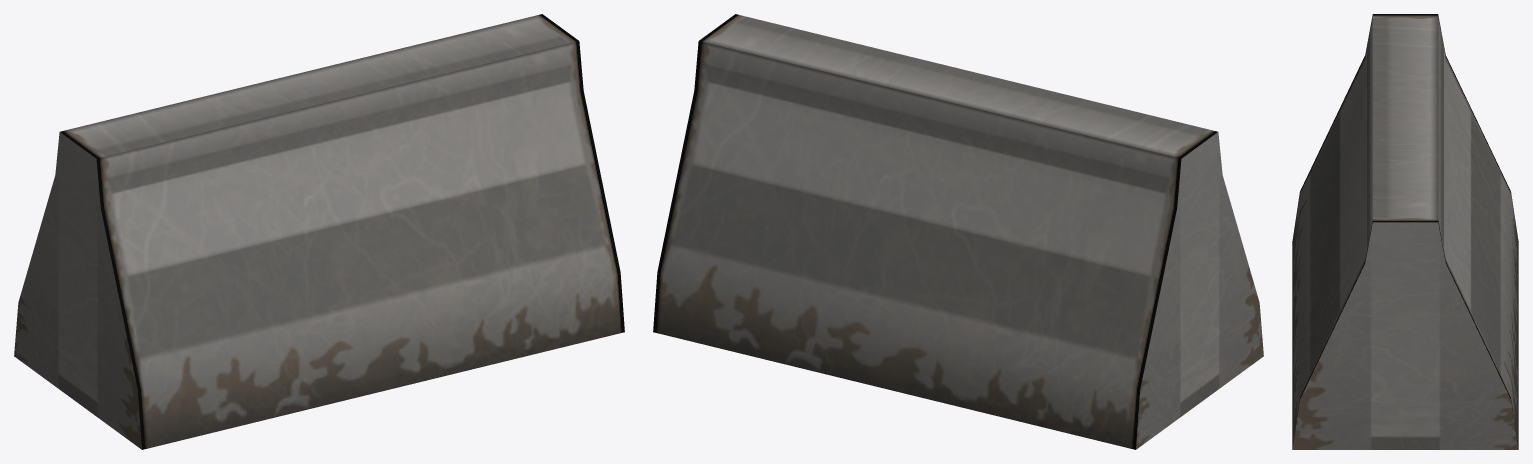
File: Building_AncientMilitaryBarrier.obj
3 renders of one model, left to right at view 1: azimuth 30°, elevation 25°; view 2: azimuth 150°, elevation 25°; view 3: azimuth 270°, elevation 25°, orthographic. The views are drawn at different scales.
Visible parts, largest first — view 1: Body; view 2: Body; view 3: Body.
Part boxes in pixels (<box>): Body: <box>14,14,624,449</box>; Body: <box>653,14,1263,449</box>; Body: <box>1292,14,1518,449</box>.
Bounding box in the file's own units: 1.96 × 1 × 0.9.
Materials: 1 (1 with a texture image).
